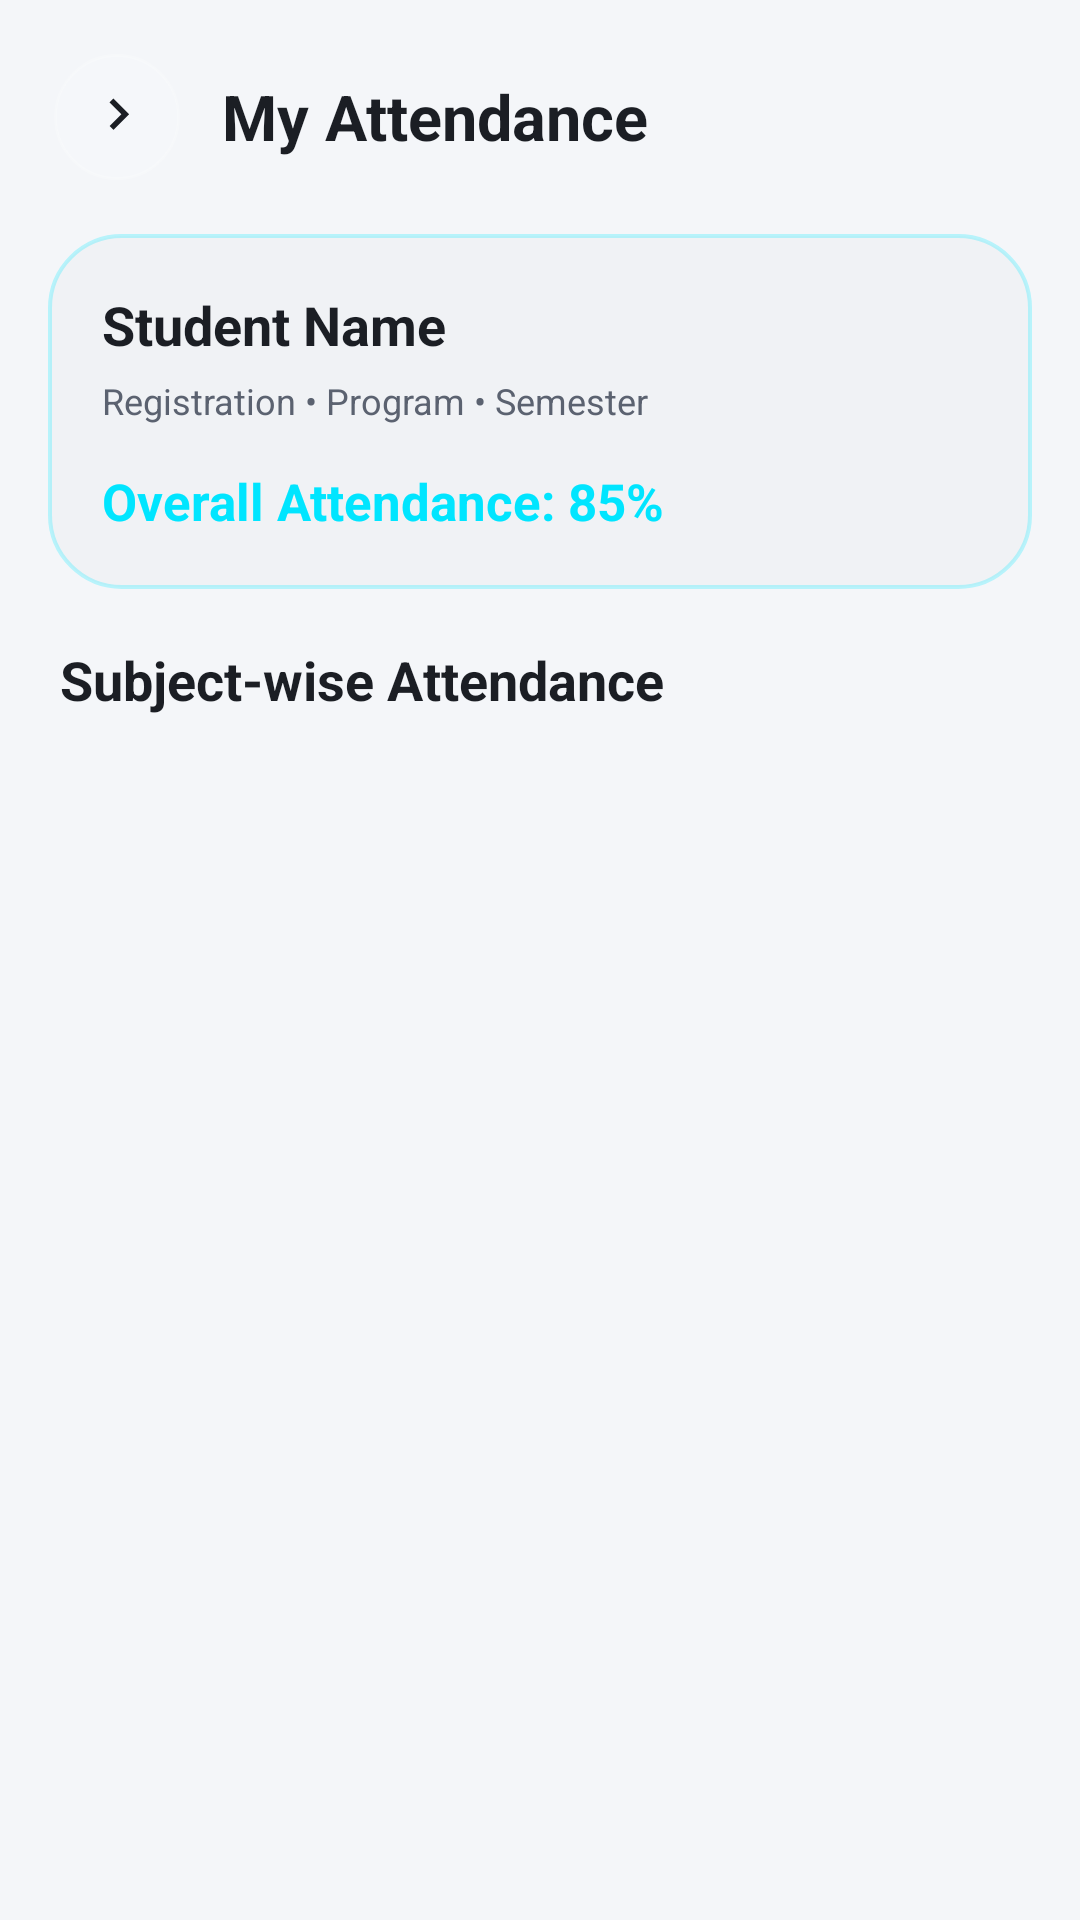

Named icons in this screenshot (1080 x 1920) and their centers, point (x, y):
arrow: point (119, 114)
